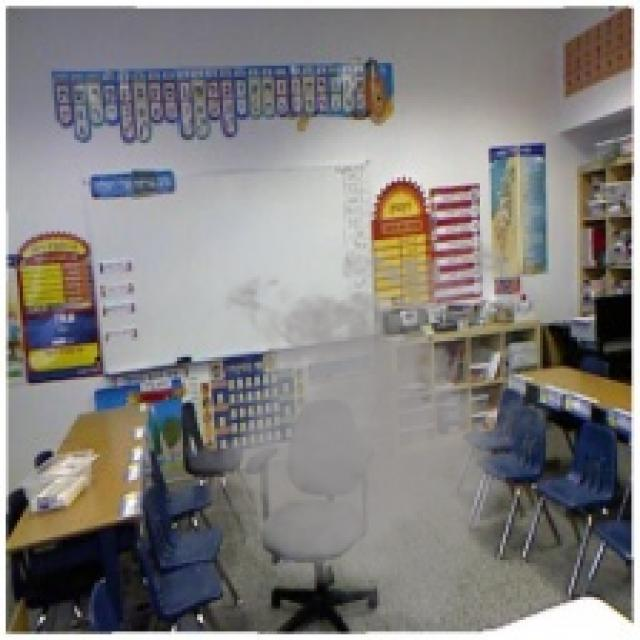smoke: (163, 226, 571, 628)
